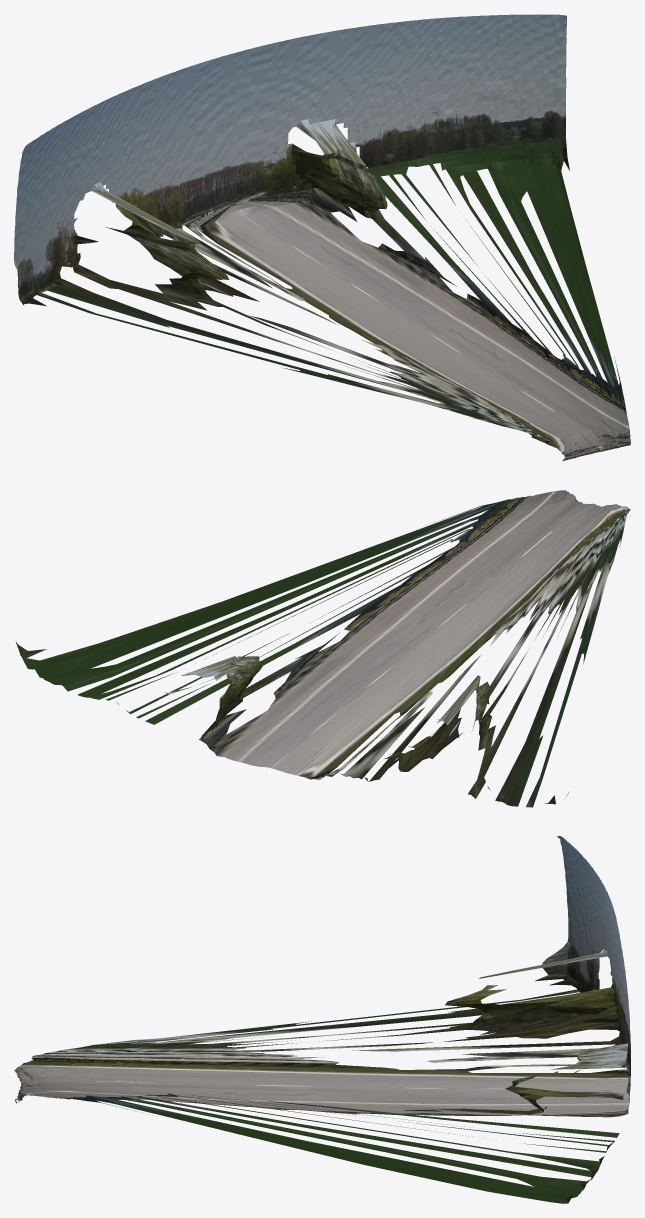
3 views of the same model, one above another, from view 1: azimuth 30°, elevation 25°; view 2: azimuth 150°, elevation 25°; view 3: azimuth 270°, elevation 25° (orthographic). The views are drawn at different scales.
Parts seen in each view (by area): view 1: defaultobject; view 2: defaultobject; view 3: defaultobject.
Boxes of the visible parts, bbox=[...] form: defaultobject: bbox=[14, 14, 630, 461]; defaultobject: bbox=[15, 490, 630, 807]; defaultobject: bbox=[14, 836, 630, 1203].
Bounding box in the file's own units: 41.14 × 12.44 × 44.38.
1 material, 1 textured.
